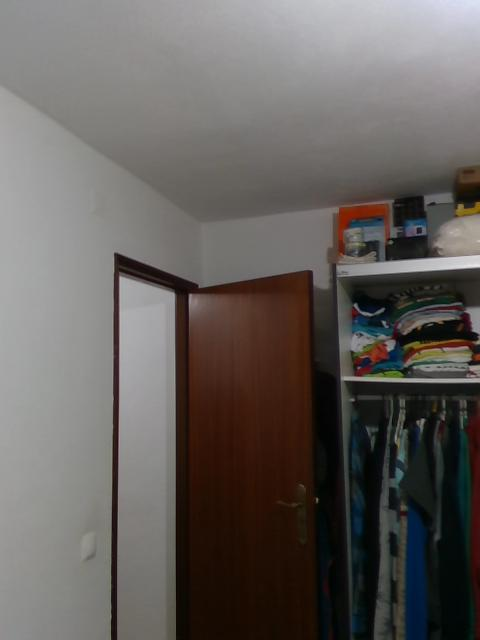open_door: (109, 249, 199, 638)
